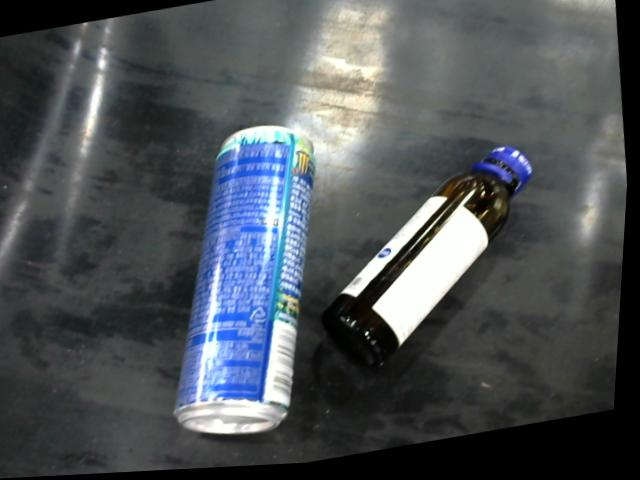trash: (325, 134, 544, 383), (176, 120, 324, 455)
